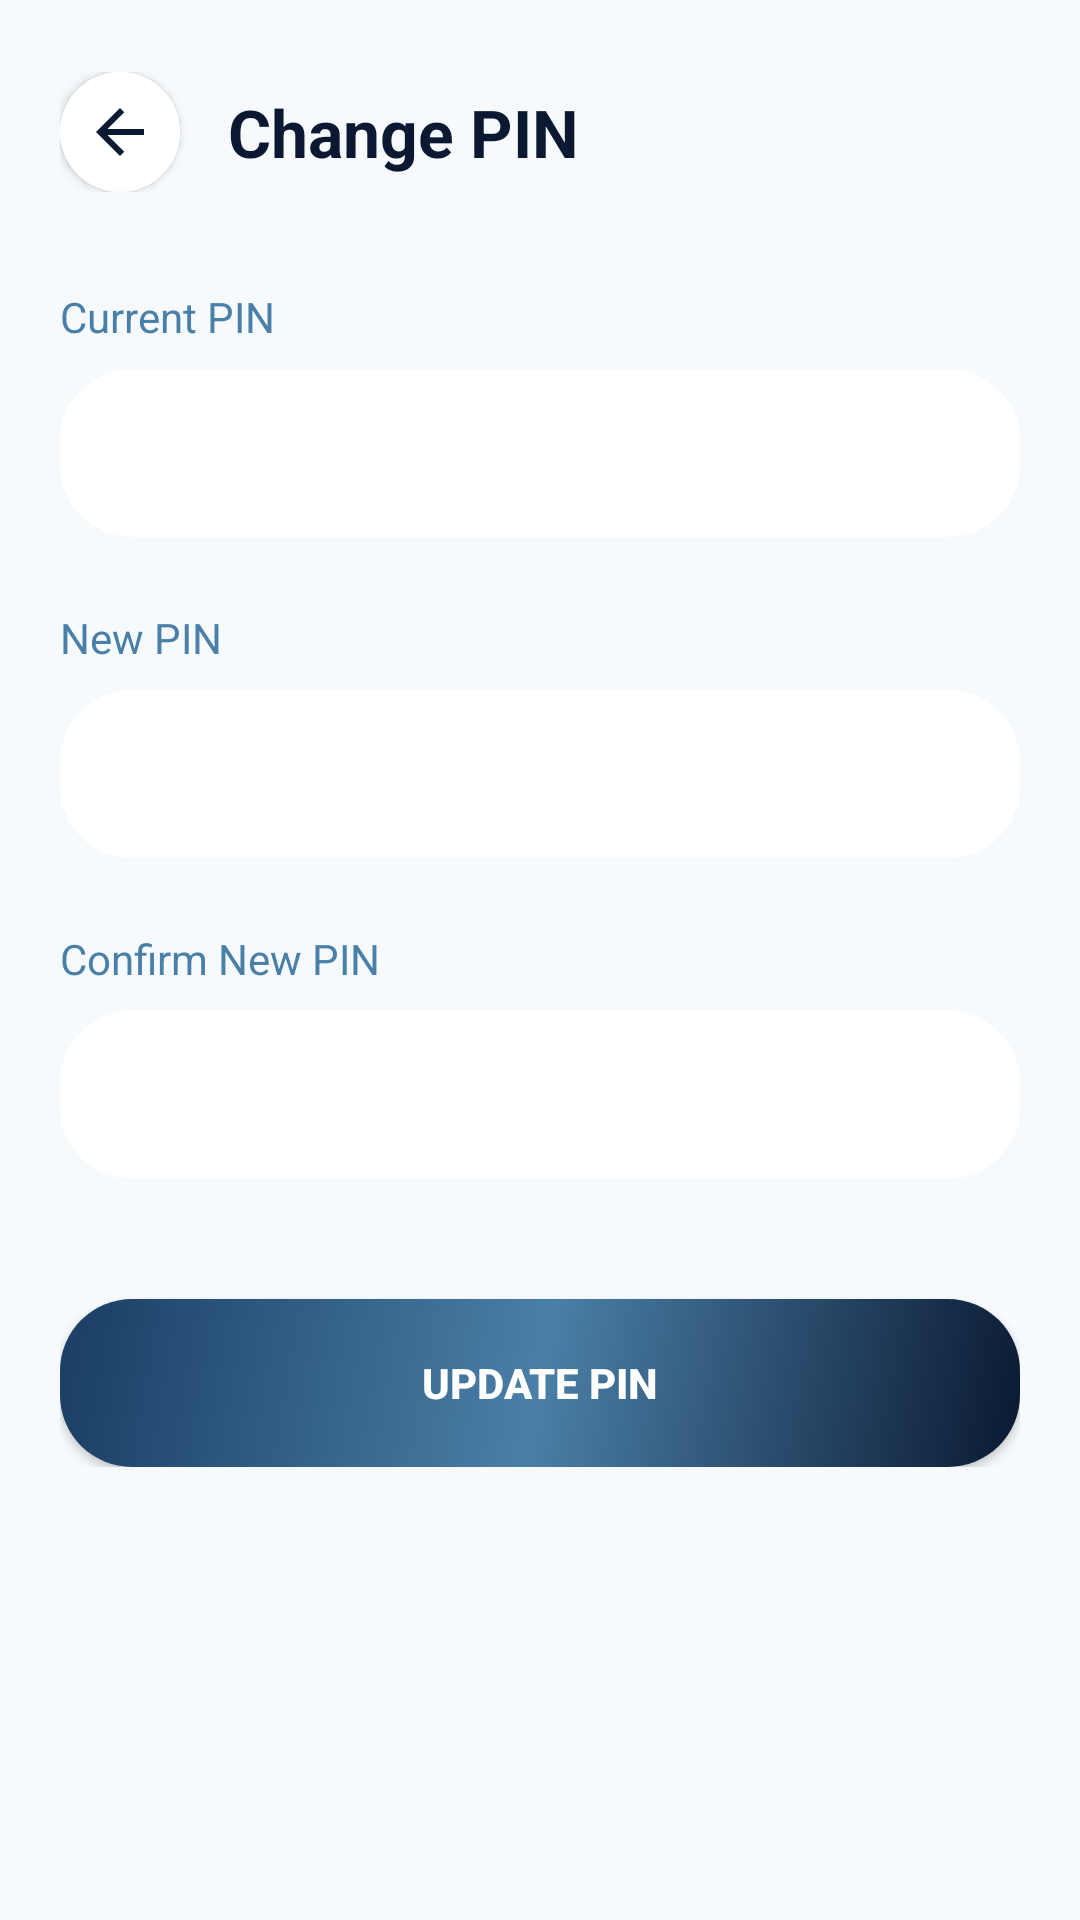

Icons on this 1080*1920 Android screen, each with its box as (x1, y1, x2, y2):
back: (60, 72, 180, 192)
